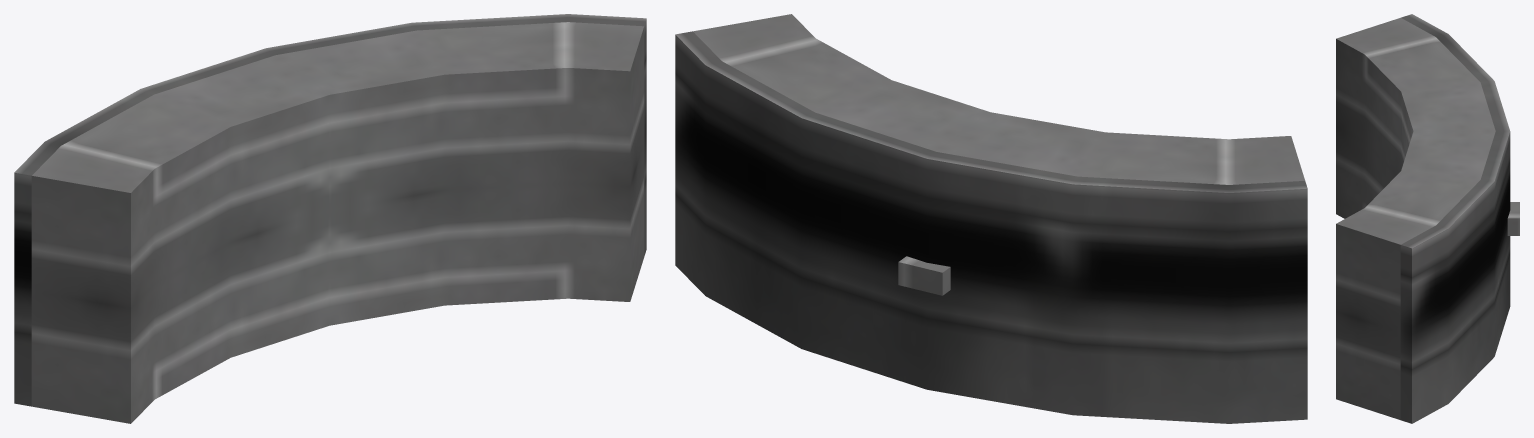
Rendered from rad1.obj.
The picture shows the model from 3 angles, left to right: view 1: azimuth 30°, elevation 25°; view 2: azimuth 150°, elevation 25°; view 3: azimuth 270°, elevation 25°; orthographic projection. The views are drawn at different scales.
Parts seen in each view (by area): view 1: short; view 2: short; view 3: short.
Part boxes in pixels (x1=…): short: x1=14, y1=14, x2=646, y2=423; short: x1=675, y1=14, x2=1307, y2=423; short: x1=1336, y1=14, x2=1519, y2=423.
Size of the model in its own units: 1.43 by 0.5 by 0.4751.
